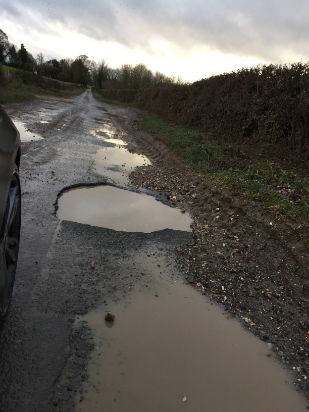pothole: (65, 259, 309, 411), (50, 177, 200, 236), (89, 122, 154, 173)
